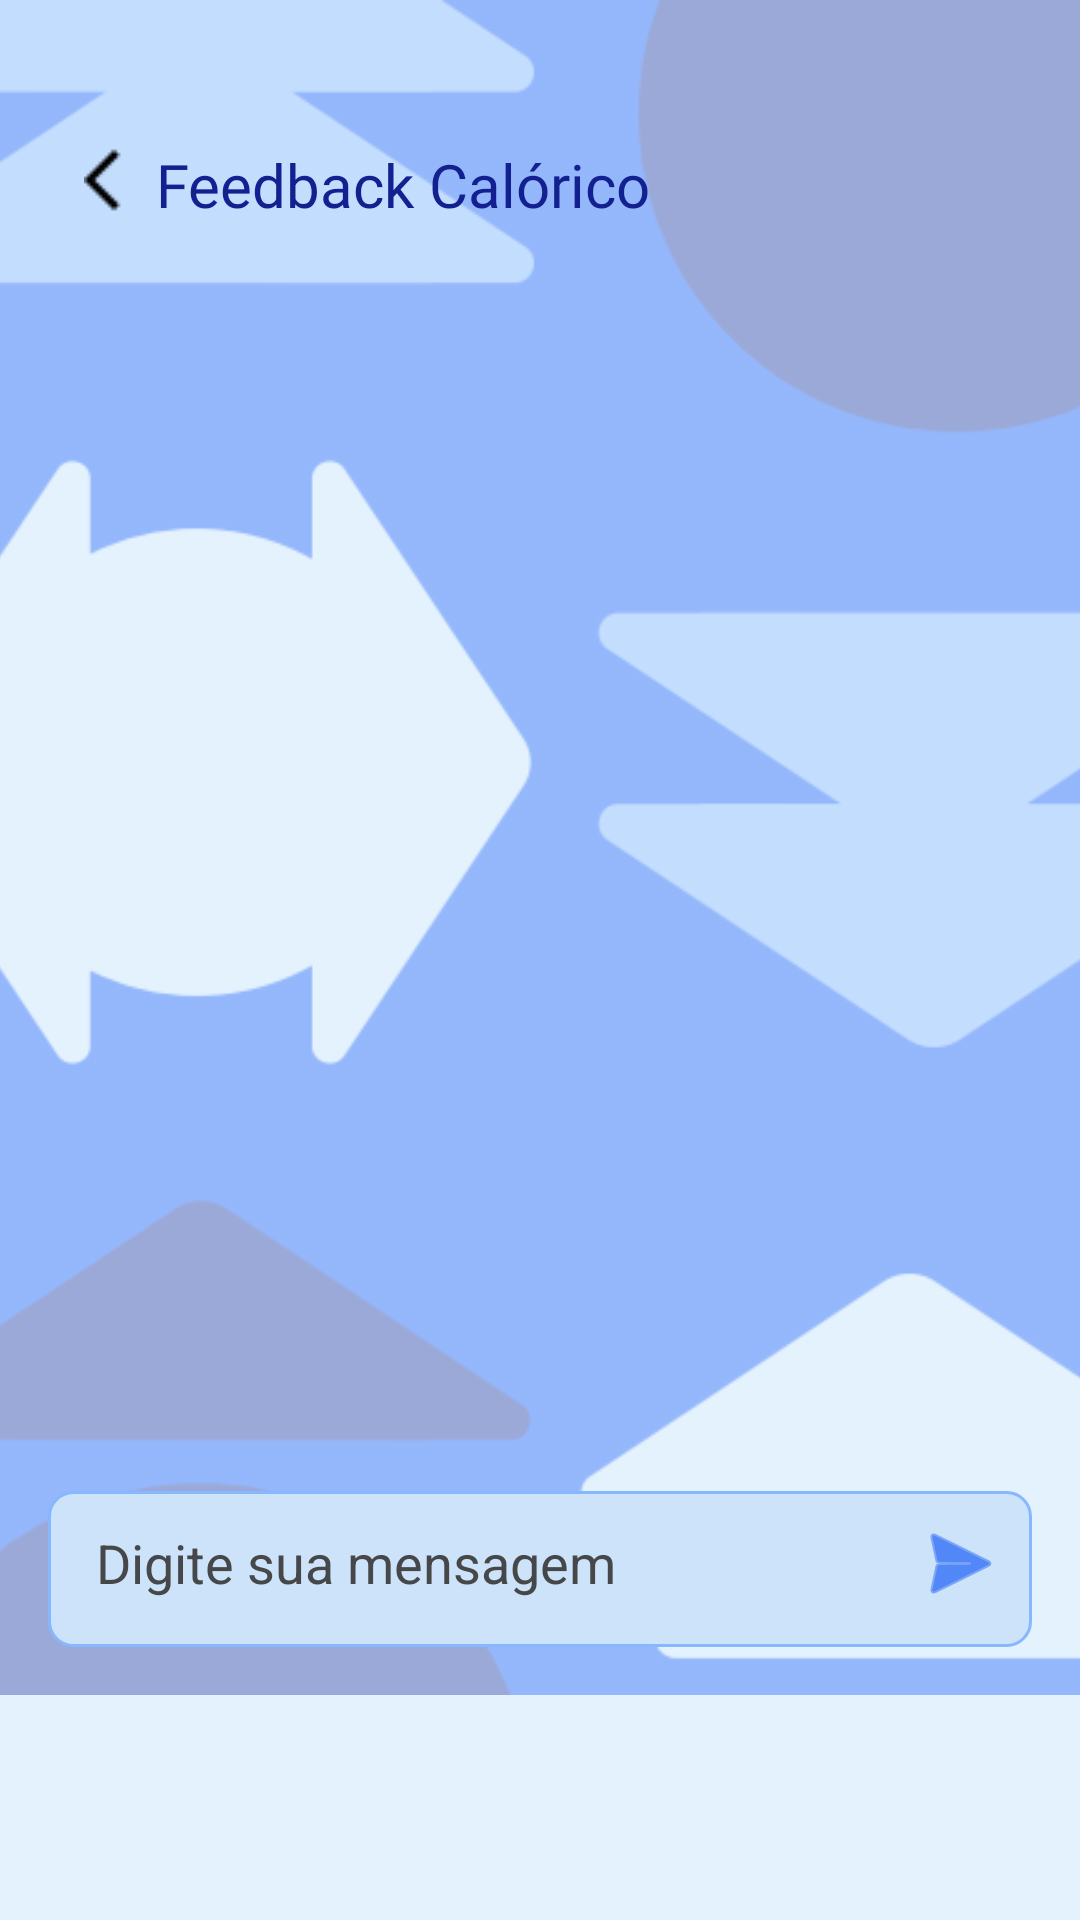

Icons on this 1080 × 1920 Android screen, each with the point to tap as point (x, y):
Enviar: point (961, 1563)
Voltar: point (102, 180)
